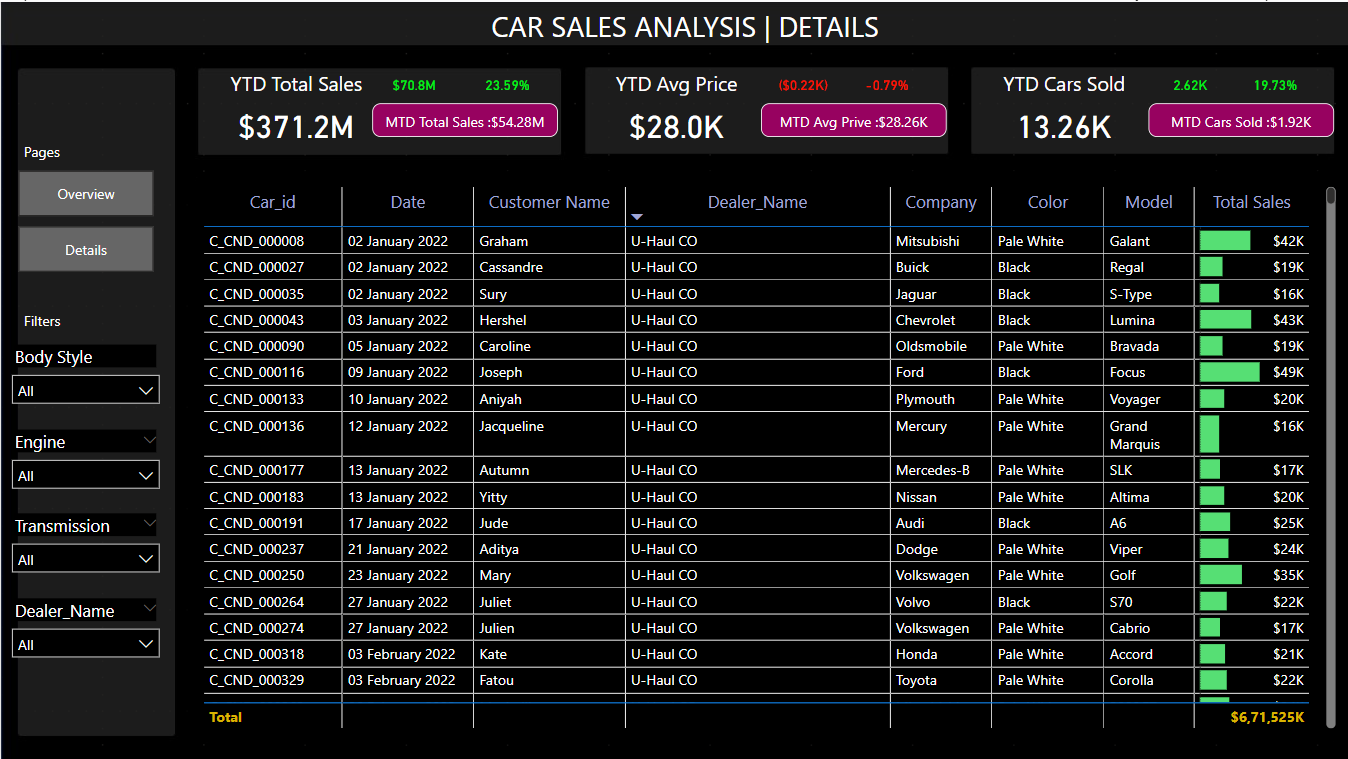

Layout of this report page (visuals, bound fields, positions):
{"tool":"powerbi","page":{"name":"Details","canvas":[1280,720],"ordinal":1},"visuals":[{"type":"card","title":"YTD Total Sales","fields":{"Values":["car_data.YTD Total Sales"]},"box":[192,64,176,80],"z":0},{"type":"card","fields":{"Values":["car_data.Sales Difference"]},"box":[352,64,80,32],"z":1000},{"type":"card","fields":{"Values":["car_data.YOY Sales Growth"]},"box":[432,64,96,32],"z":2000},{"type":"card","fields":{"Values":["car_data.MTD KPI"]},"box":[352,96,176,32],"z":3000},{"type":"card","title":"YTD Avg Price","fields":{"Values":["car_data.YTD Avg Price"]},"box":[560,64,160,80],"z":4000},{"type":"card","fields":{"Values":["car_data.Avg Price Diff"]},"box":[720,64,80,32],"z":5000},{"type":"card","fields":{"Values":["car_data.YOY Avg Pricr Growth"]},"box":[800,64,80,32],"z":6000},{"type":"card","fields":{"Values":["car_data.MTD Avg Price KPI"]},"box":[720,96,176,32],"z":7000},{"type":"card","title":"YTD Cars Sold","fields":{"Values":["car_data.YTD Car Sold"]},"box":[928,64,160,80],"z":8000},{"type":"card","fields":{"Values":["car_data.Cars Sold Diff"]},"box":[1088,64,80,32],"z":9000},{"type":"card","fields":{"Values":["car_data.YOY Car Sold Growth"]},"box":[1168,64,80,32],"z":10000},{"type":"card","fields":{"Values":["car_data.MTD Cars Sold KPI"]},"box":[1088,96,176,32],"z":12000},{"type":"textbox","box":[432,0,432,48],"z":13000},{"type":"slicer","fields":{"Values":["car_data.Body Style"]},"box":[0,320,160,80],"z":14000},{"type":"slicer","fields":{"Values":["car_data.Transmission"]},"box":[0,480,160,64],"z":15000},{"type":"slicer","fields":{"Values":["car_data.Dealer_Name"]},"box":[0,560,160,96],"z":16000},{"type":"slicer","fields":{"Values":["car_data.Engine"]},"box":[0,400,160,80],"z":17000},{"type":"textbox","box":[16,288,64,32],"z":18000},{"type":"tableEx","fields":{"Values":["car_data.Car_id","car_data.Date","car_data.Customer Name","car_data.Dealer_Name","car_data.Company","car_data.Color","car_data.Model","Sum(car_data.Price ($))"]},"box":[176,160,1104,544],"z":19000},{"type":"pageNavigator","box":[16,160,128,96],"z":20000},{"type":"textbox","box":[16,128,64,32],"z":21000}]}

Visuals, with their boxes in screenshot pixels (x1, y1, x2, y2), scaled from the page's 1280x720 canvas onto the 1348x759 screenshot:
"YTD Total Sales" card: 202 67 388 152
card - car_data.Sales Difference: 371 67 455 101
card - car_data.YOY Sales Growth: 455 67 556 101
card - car_data.MTD KPI: 371 101 556 135
"YTD Avg Price" card: 590 67 758 152
card - car_data.Avg Price Diff: 758 67 843 101
card - car_data.YOY Avg Pricr Growth: 843 67 927 101
card - car_data.MTD Avg Price KPI: 758 101 944 135
"YTD Cars Sold" card: 977 67 1146 152
card - car_data.Cars Sold Diff: 1146 67 1230 101
card - car_data.YOY Car Sold Growth: 1230 67 1314 101
card - car_data.MTD Cars Sold KPI: 1146 101 1331 135
textbox: 455 0 910 51
slicer - car_data.Body Style: 0 337 168 422
slicer - car_data.Transmission: 0 506 168 573
slicer - car_data.Dealer_Name: 0 590 168 692
slicer - car_data.Engine: 0 422 168 506
textbox: 17 304 84 337
tableEx - car_data.Car_id x car_data.Date: 185 169 1347 742
pageNavigator: 17 169 152 270
textbox: 17 135 84 169
